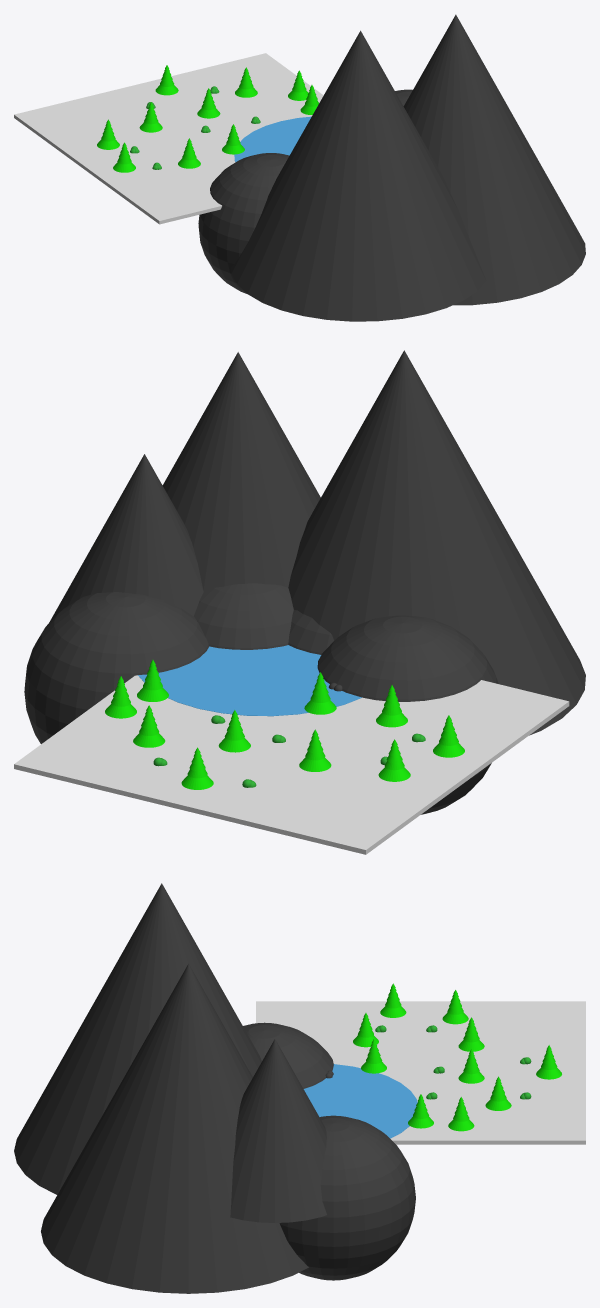
File: Diorama.dae
The picture shows the model from 3 angles, top to bottom: view 1: azimuth 30°, elevation 25°; view 2: azimuth 150°, elevation 25°; view 3: azimuth 270°, elevation 25°; orthographic projection. The views are drawn at different scales.
Parts seen in each view (by area): view 1: Cone.010, Cone.009, Cube, Sphere.001, Cylinder; view 2: Cone.010, Cube, Cone.009, Sphere.003, Sphere.001, Cone.008, Cylinder, Sphere.002, Sphere, Cone.006, Cone.003, Cone (+7 smaller); view 3: Cone.009, Cube, Cone.010, Sphere.003, Cone.008, Cylinder, Sphere.001.
Boxes of the visible parts, bbox=[...] form: Cone.010: bbox=[231, 30, 486, 321]; Cone.009: bbox=[403, 14, 585, 305]; Cube: bbox=[14, 53, 323, 224]; Sphere.001: bbox=[198, 153, 289, 293]; Cylinder: bbox=[234, 116, 311, 161]; Cone.010: bbox=[288, 350, 585, 735]; Cube: bbox=[14, 675, 569, 854]; Cone.009: bbox=[162, 352, 320, 591]; Sphere.003: bbox=[24, 592, 209, 743]; Sphere.001: bbox=[317, 615, 498, 814]; Cone.008: bbox=[49, 454, 203, 622]; Cylinder: bbox=[138, 645, 362, 716]; Sphere.002: bbox=[194, 583, 293, 649]; Sphere: bbox=[288, 610, 333, 654]; Cone.006: bbox=[181, 747, 213, 789]; Cone.003: bbox=[378, 739, 410, 781]; Cone: bbox=[304, 672, 336, 714]; Cone.009: bbox=[41, 964, 308, 1293]; Cube: bbox=[256, 1001, 585, 1144]; Cone.010: bbox=[14, 883, 261, 1194]; Sphere.003: bbox=[279, 1115, 415, 1280]; Cone.008: bbox=[230, 1039, 326, 1222]; Cylinder: bbox=[303, 1064, 417, 1138]; Sphere.001: bbox=[243, 1022, 333, 1088].
Size of the model in its own units: 6.03 by 6.93 by 4.3.
